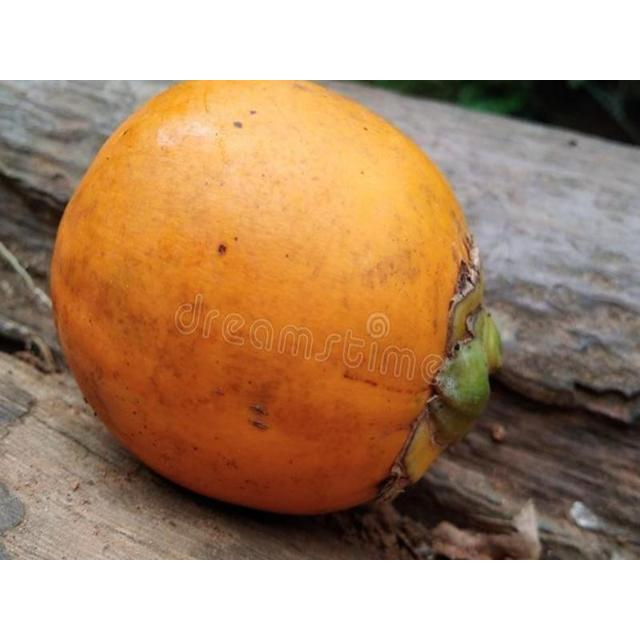good: (50, 80, 502, 518)
